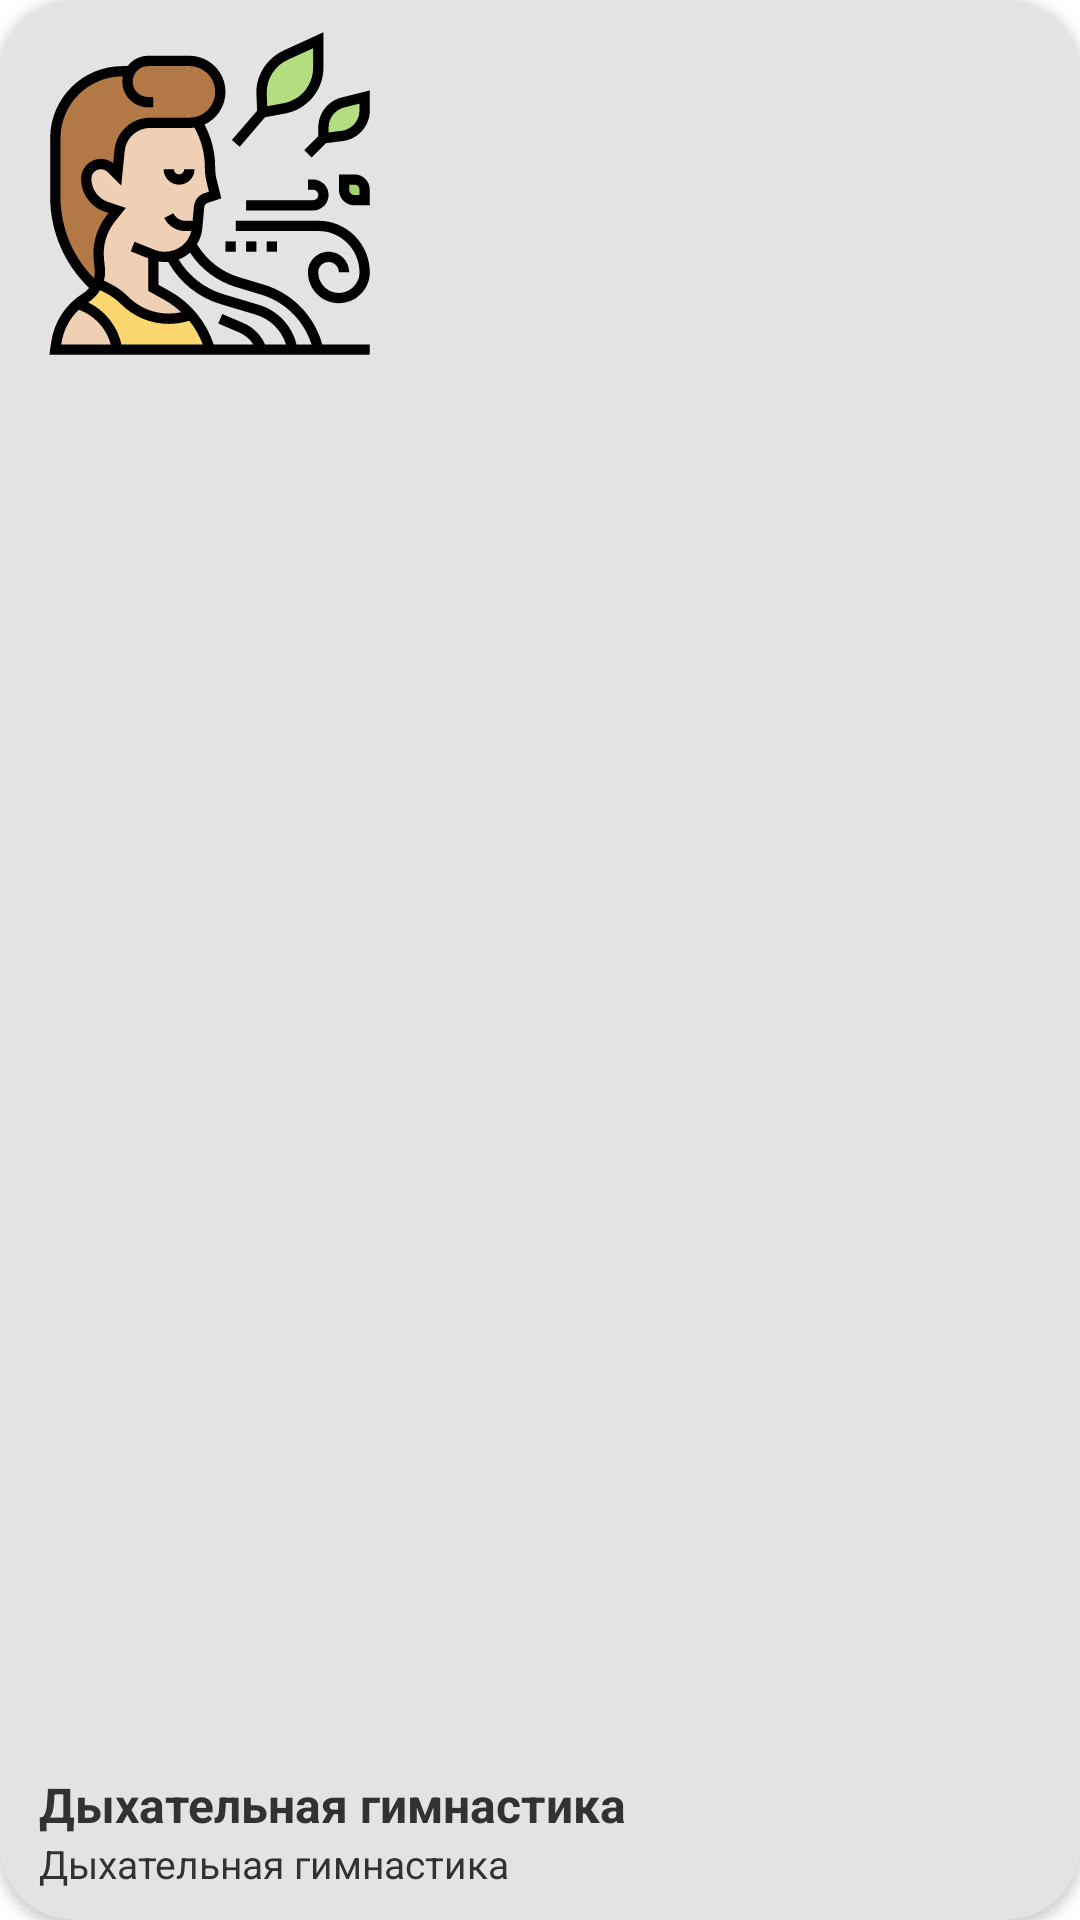

Icons on this 1080px x 1920px Android screen, each with its box as (left=x1, top=y1, right=x2, bottom=y2):
breath: (left=49, top=32, right=370, bottom=355)
